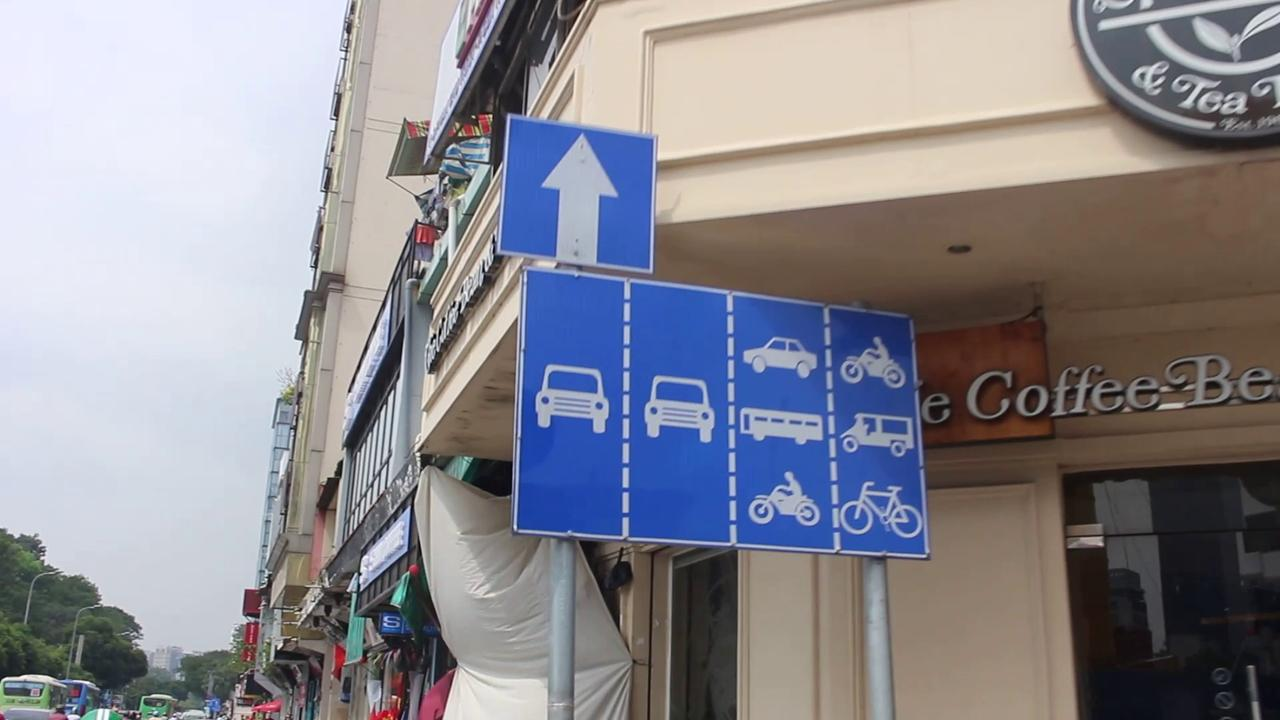P.124c: (492, 107, 656, 276)
